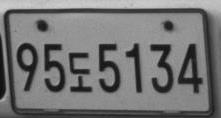1: (124, 42, 146, 93)
3: (149, 43, 174, 93)
4: (177, 42, 203, 94)
5: (97, 42, 121, 93), (43, 43, 66, 92)
9: (15, 42, 38, 92)
도: (68, 52, 93, 92)
